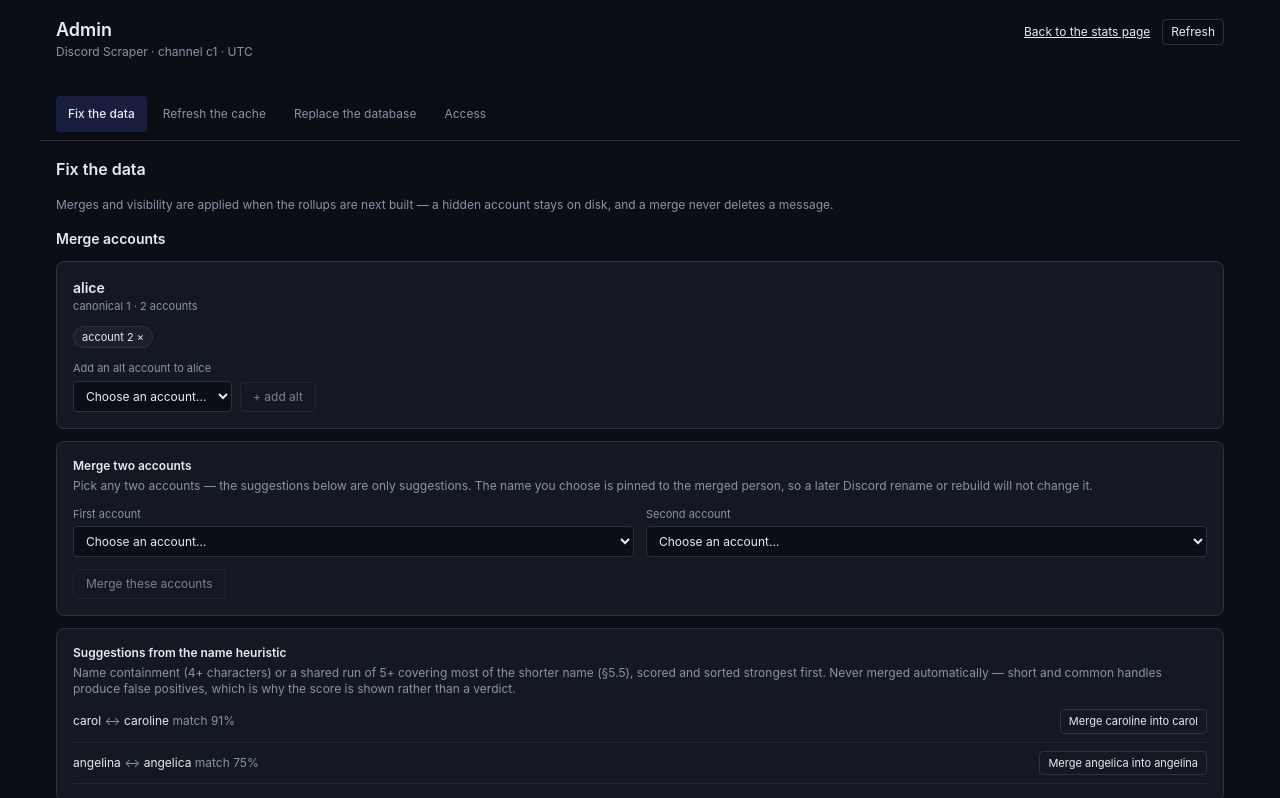
Test: <Admin> › offers the real zones, an automatic option, and names the effective zone
The width and height of the screenshot is (1280, 798).
Click the button "Replace the database": coordinates (355, 114) [282,96,428,132]
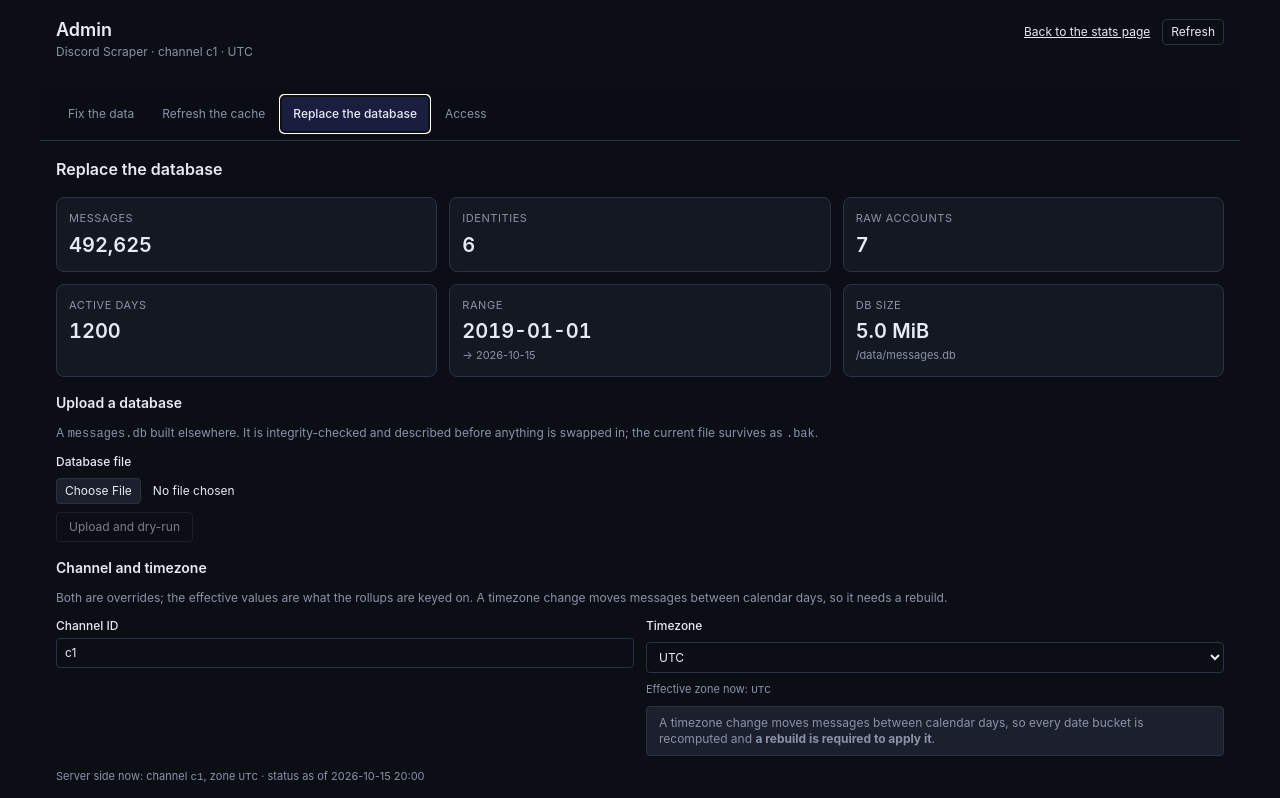
Check: the text "Effective zone now: UTC" is shown, box [646,682,771,696]
